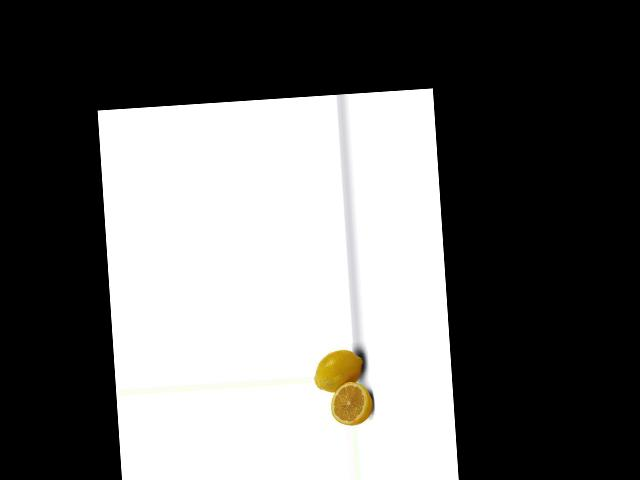lemon: (311, 345, 367, 396)
